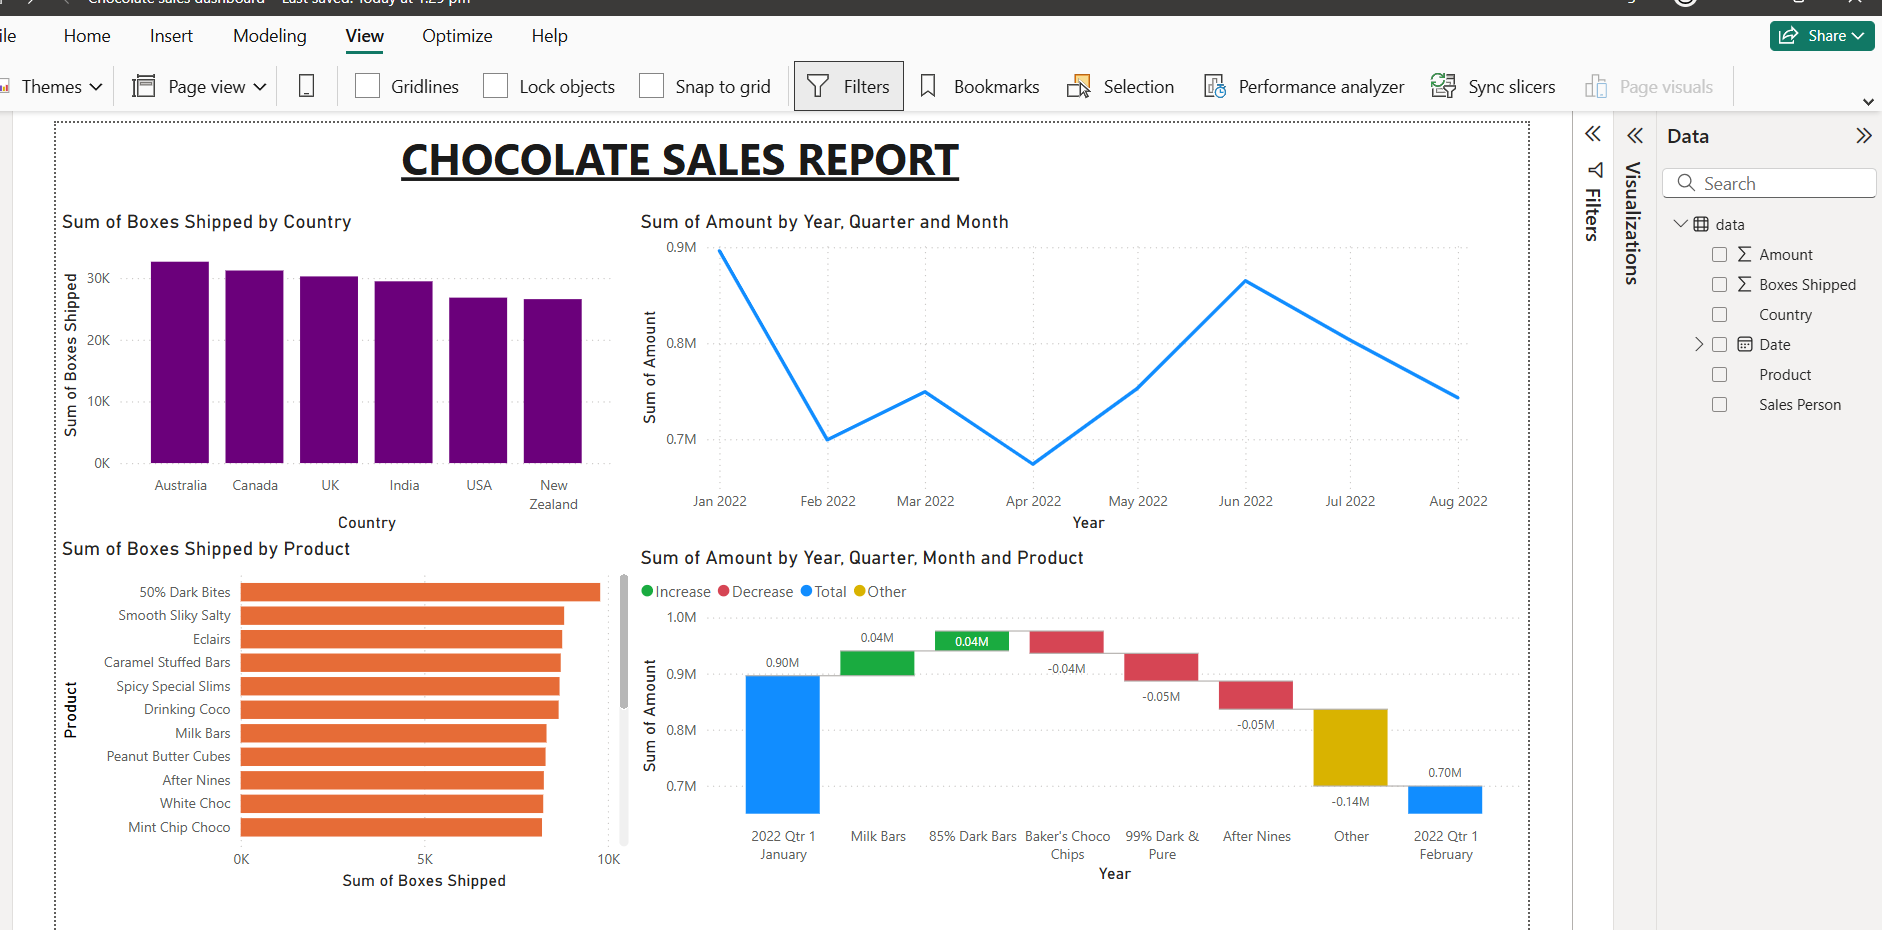

The dashboard page shown, as its layout file describes it:
{"tool":"powerbi","page":{"name":"Page 1","canvas":[1280,720],"ordinal":0},"visuals":[{"type":"clusteredColumnChart","fields":{"Category":["data.Country"],"Y":["Sum(data.Boxes Shipped)"]},"box":[0,74.5,489.8,285.7],"z":0},{"type":"barChart","fields":{"Category":["data.Product"],"Y":["Sum(data.Boxes Shipped)"]},"box":[0,360.2,503.1,312.2],"z":1000},{"type":"lineChart","fields":{"Category":["data.Date.Variation.Date Hierarchy.Year","data.Date.Variation.Date Hierarchy.Quarter","data.Date.Variation.Date Hierarchy.Month","data.Date.Variation.Date Hierarchy.Day"],"Y":["Sum(data.Amount)"]},"box":[503.1,74.5,746.9,285.7],"z":2000},{"type":"waterfallChart","fields":{"Category":["data.Date.Variation.Date Hierarchy.Year","data.Date.Variation.Date Hierarchy.Quarter","data.Date.Variation.Date Hierarchy.Month"],"Breakdown":["data.Product"],"Y":["Sum(data.Amount)"]},"box":[503.1,367.3,776.5,298],"z":3000},{"type":"textbox","box":[131.6,0,822.4,66.3],"z":4000}]}

Visuals, with their boxes on the page's 1280x720 design canvas (x1, y1, x2, y2). These are canvas units, not pixel positions in the 1882x930 screenshot, which may show the page scaled, cropped or inside an application window:
clusteredColumnChart - data.Country x Sum(data.Boxes Shipped): x1=0 y1=74 x2=490 y2=360
barChart - data.Product x Sum(data.Boxes Shipped): x1=0 y1=360 x2=503 y2=672
lineChart - data.Date.Variation.Date Hierarchy.Year x data.Date.Variation.Date Hierarchy.Quarter: x1=503 y1=74 x2=1250 y2=360
waterfallChart - data.Date.Variation.Date Hierarchy.Year x data.Date.Variation.Date Hierarchy.Quarter: x1=503 y1=367 x2=1280 y2=665
textbox: x1=132 y1=0 x2=954 y2=66
